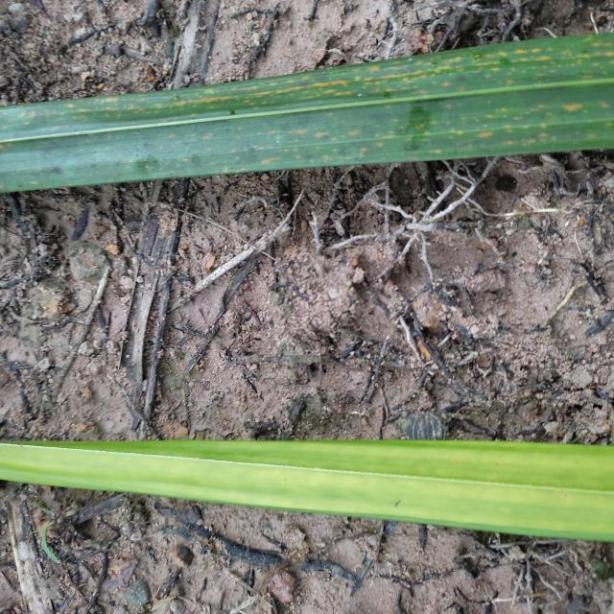nitrogen: (0, 27, 614, 195), (0, 430, 614, 552)
